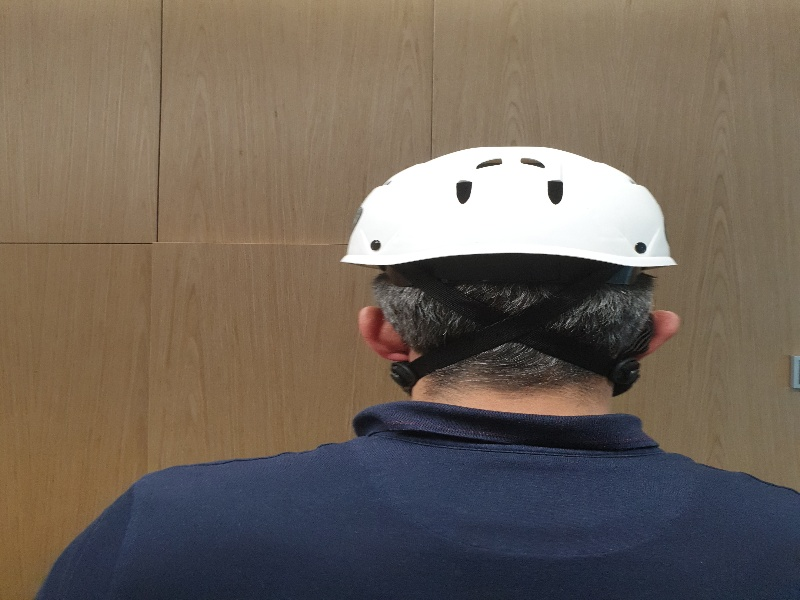Baret: (350, 148, 673, 276)
